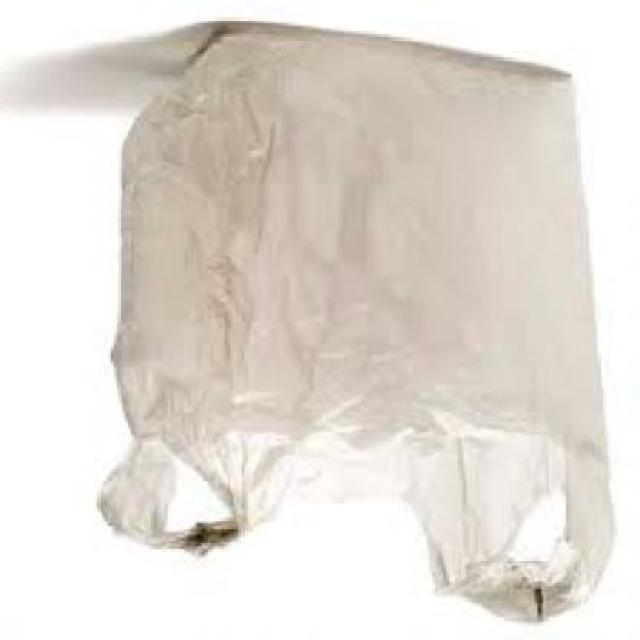PLASTIC: (100, 25, 617, 626)
